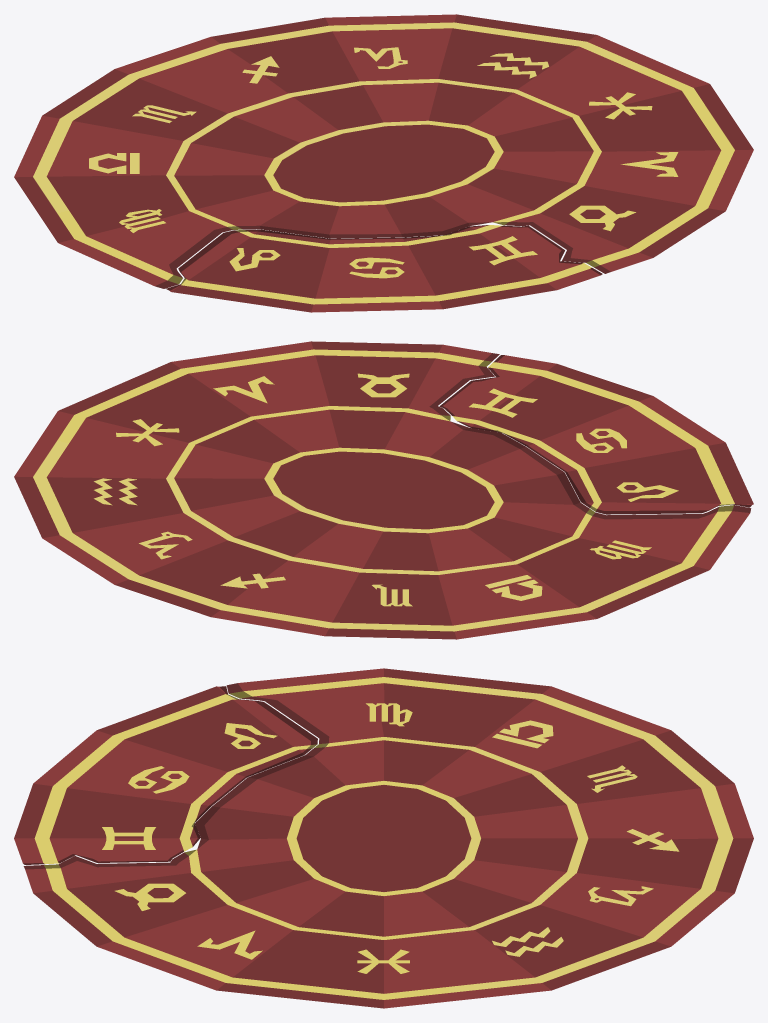
File: SM_Rug.fbx
3 views of the same model, one above another, from view 1: azimuth 30°, elevation 25°; view 2: azimuth 150°, elevation 25°; view 3: azimuth 270°, elevation 25° (orthographic). The views are drawn at different scales.
Parts seen in each view (by area): view 1: rugMain_GEO, rugBurnt_GEO; view 2: rugMain_GEO, rugBurnt_GEO; view 3: rugMain_GEO, rugBurnt_GEO.
Boxes of the visible parts, x1,y1,x2,y2 form: rugMain_GEO: (14,14,753,288); rugBurnt_GEO: (166,225,602,312); rugMain_GEO: (14,341,751,639); rugBurnt_GEO: (439,355,753,514); rugMain_GEO: (23,668,753,1008); rugBurnt_GEO: (14,686,317,864).
Size of the model in its own units: 196 by 2.14e-12 by 180.
